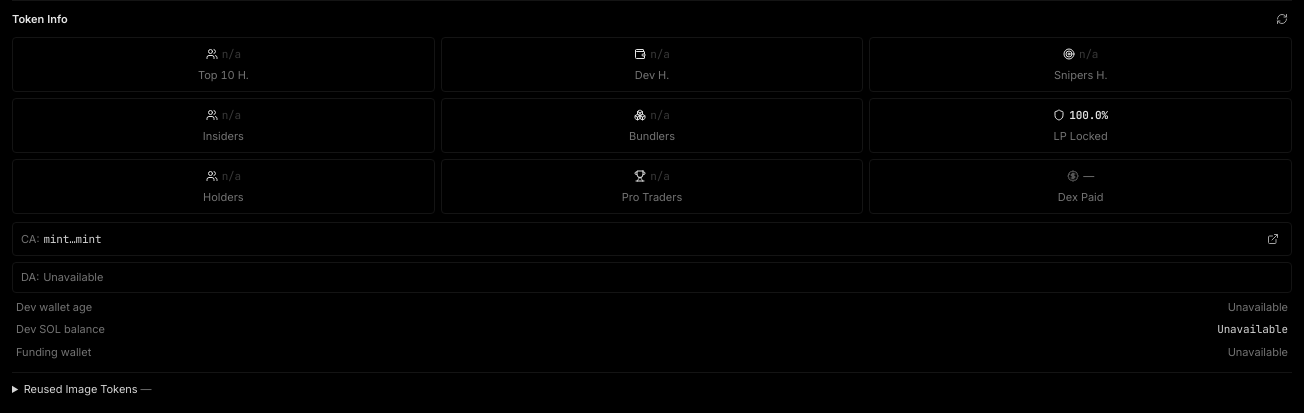
trade sidebar evidence labels › qualifies an LP lock reading as the deepest reported pool
Focus the element labelled "LP Locked" at x=1081, y=126, box [869,98,1292,153]
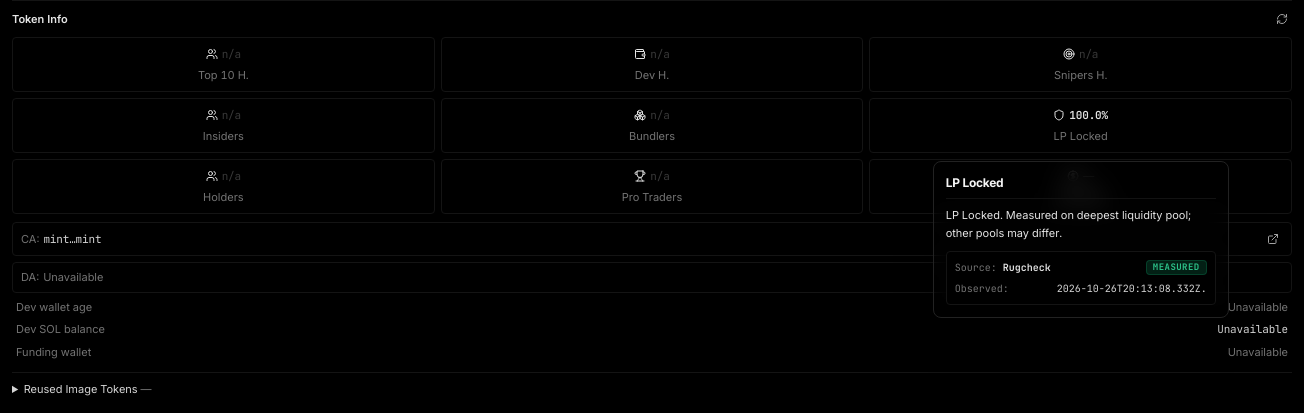
Result: the tooltip shows "deepest liquidity pool" at [946,208,1191,240]
